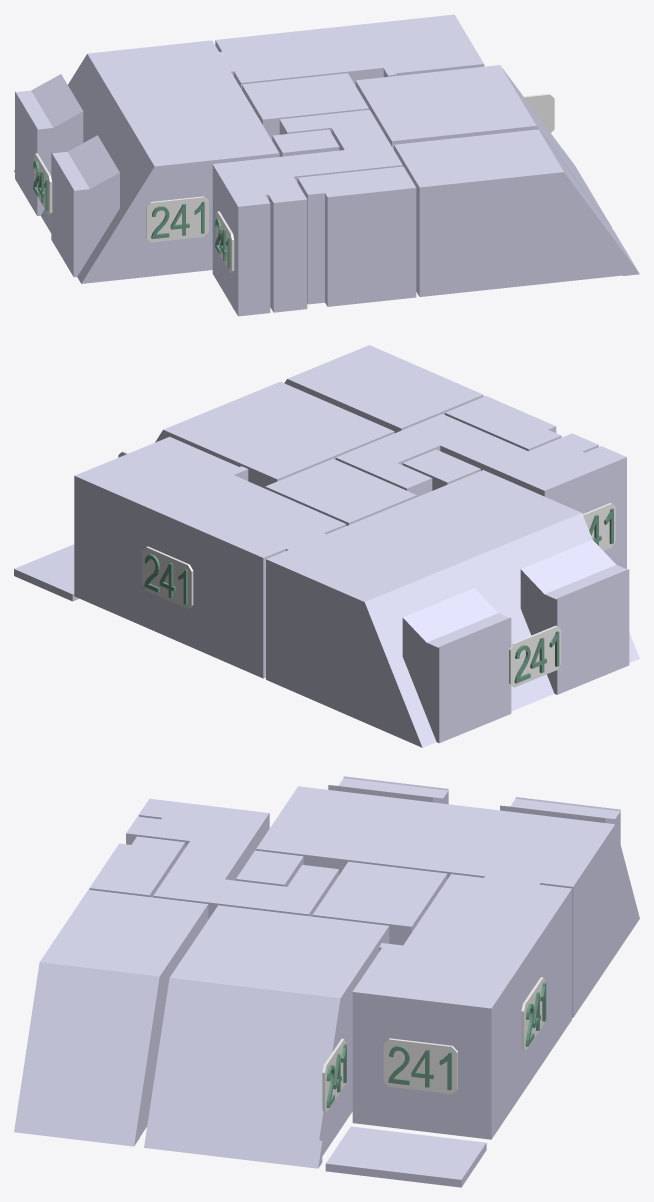
3 renders of one model, top to bottom at view 1: azimuth 30°, elevation 25°; view 2: azimuth 150°, elevation 25°; view 3: azimuth 270°, elevation 25°, orthographic. The views are drawn at different scales.
Visible parts, largest first — view 1: g_0, g_3, g_5, g_7, g_1, g_2, g_4, g_32, g_6, g_20, g_28, g_16; view 2: g_0, g_1, g_5, g_2, g_3, g_4, g_7, g_8, g_24, g_16, g_6, g_28; view 3: g_2, g_1, g_0, g_3, g_5, g_8, g_4, g_7, g_12, g_6, g_20, g_24.
Boxes of the visible parts, left/top/right/bottom form: g_0: left=14, top=40, right=279, bottom=283; g_3: left=394, top=129, right=639, bottom=296; g_5: left=212, top=109, right=402, bottom=316; g_7: left=297, top=166, right=416, bottom=306; g_1: left=215, top=14, right=484, bottom=89; g_2: left=355, top=65, right=611, bottom=227; g_4: left=242, top=73, right=368, bottom=140; g_32: left=146, top=196, right=208, bottom=242; g_6: left=272, top=129, right=339, bottom=156; g_20: left=523, top=93, right=554, bottom=132; g_28: left=216, top=211, right=234, bottom=273; g_16: left=34, top=153, right=52, bottom=215; g_0: left=266, top=470, right=639, bottom=747; g_1: left=74, top=436, right=346, bottom=678; g_5: left=335, top=414, right=626, bottom=568; g_2: left=155, top=381, right=394, bottom=488; g_3: left=284, top=345, right=483, bottom=432; g_4: left=265, top=458, right=416, bottom=525; g_7: left=445, top=396, right=561, bottom=451; g_8: left=14, top=544, right=79, bottom=601; g_24: left=142, top=546, right=193, bottom=608; g_16: left=509, top=625, right=561, bottom=687; g_6: left=402, top=449, right=480, bottom=490; g_28: left=582, top=503, right=615, bottom=550; g_2: left=144, top=905, right=389, bottom=1168; g_1: left=352, top=874, right=571, bottom=1139; g_0: left=256, top=776, right=639, bottom=1017; g_3: left=14, top=889, right=208, bottom=1146; g_5: left=126, top=798, right=338, bottom=919; g_8: left=325, top=1126, right=486, bottom=1187; g_4: left=312, top=861, right=447, bottom=945; g_7: left=89, top=836, right=185, bottom=897; g_12: left=383, top=1038, right=457, bottom=1094; g_6: left=236, top=850, right=303, bottom=886; g_20: left=322, top=1038, right=345, bottom=1112; g_24: left=521, top=977, right=544, bottom=1051.
Bounding box in the file's own units: 12.42 × 2.71 × 11.01.
